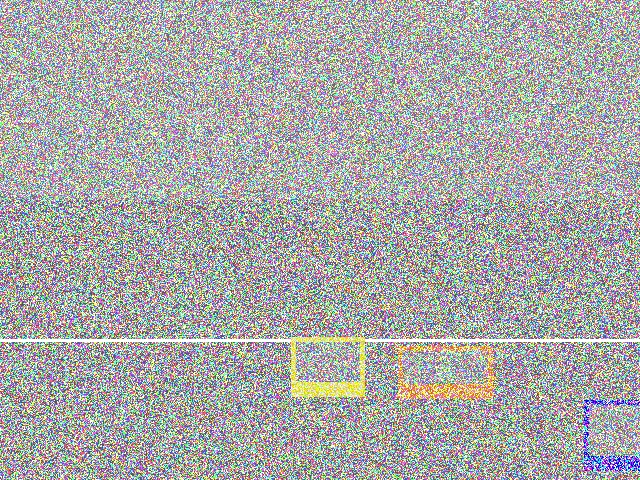motorcycle: (29, 307, 182, 392)
